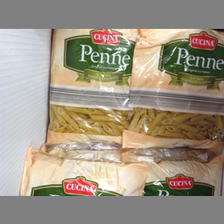pasta: (125, 29, 224, 161), (44, 29, 137, 149)
